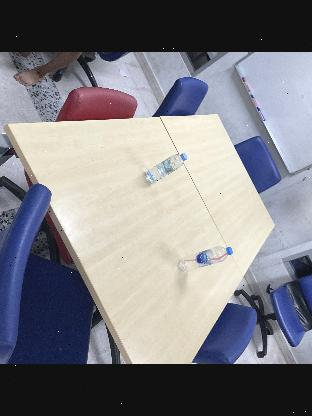Plastic Bottle: (176, 246, 232, 274), (142, 152, 188, 184)
